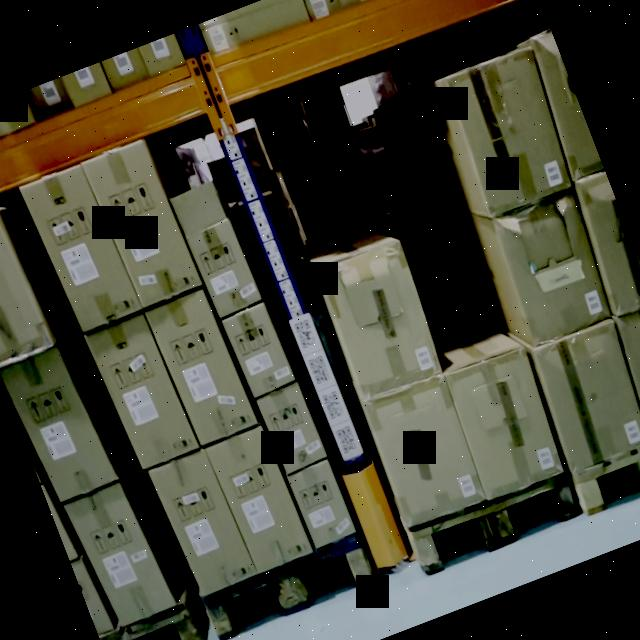box: (438, 49, 582, 222), (86, 142, 202, 312), (492, 196, 618, 350), (0, 345, 120, 504), (320, 249, 444, 396), (90, 312, 202, 474), (28, 166, 134, 328), (444, 350, 562, 490), (366, 378, 483, 518), (151, 293, 259, 444), (62, 483, 174, 624), (532, 327, 640, 472), (210, 429, 309, 573), (156, 453, 254, 591), (188, 217, 264, 321), (225, 306, 294, 396), (260, 390, 322, 470), (288, 464, 351, 542)
